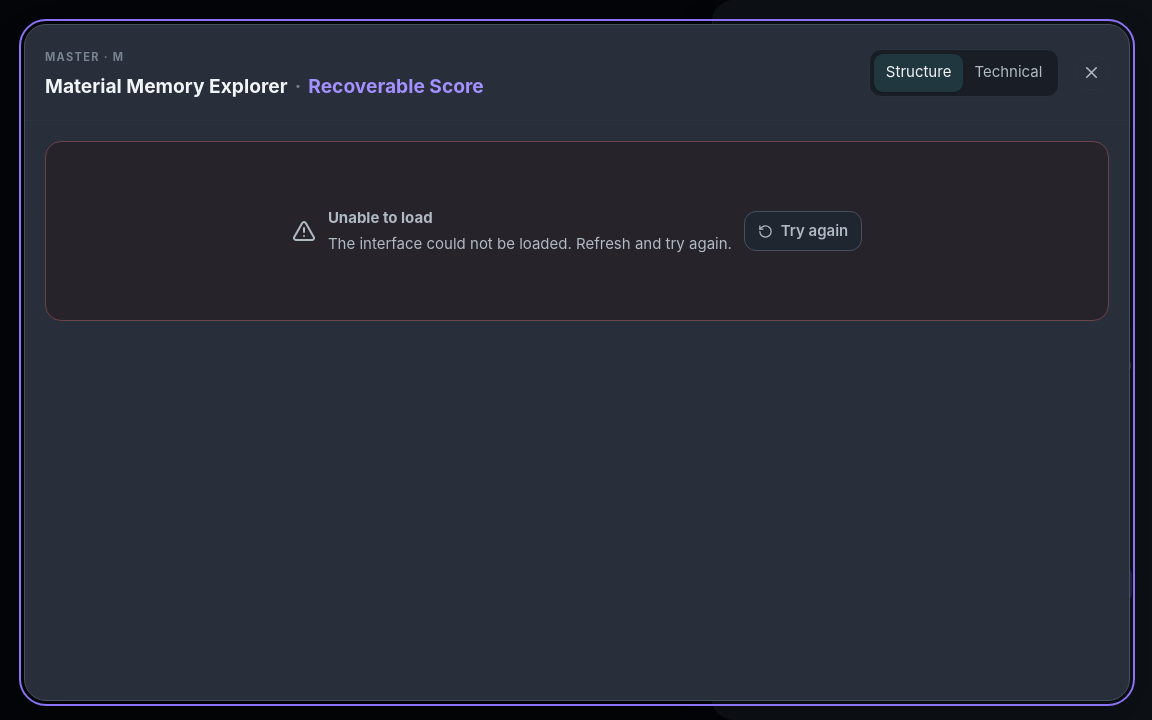
Test case: Music Structure full loading › hides partial pages after an automatic page failure and completes after retry
The width and height of the screenshot is (1152, 720).
Expected: the text "Unable to load" is shown, [328,208,433,227]
Expected: the element "Music timeline" is not shown
Step 1. Click the button "Try again" → [803, 231], box [744,211,862,251]
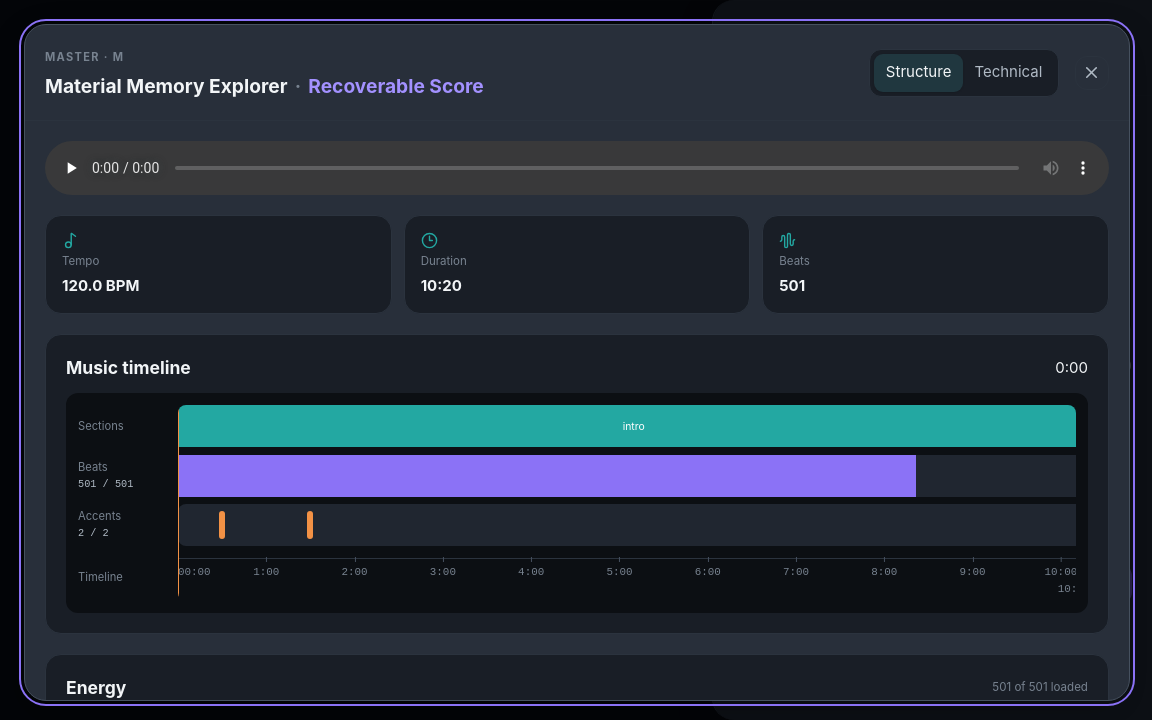
Now the button named "Seek to beat at 8:20" is shown, box [914,455,916,497]
Now the message is gone
Now the text "501 / 501" is shown, box [78,478,133,490]
